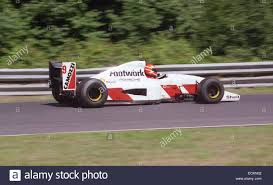FormulaOneCar: (44, 51, 244, 110)
